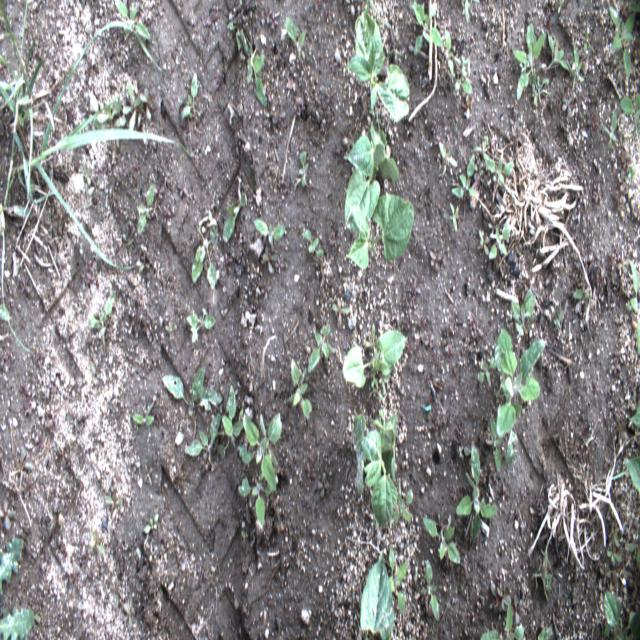crop: (344, 4, 410, 124), (344, 116, 401, 234), (344, 191, 414, 273), (352, 408, 399, 529), (357, 546, 409, 639), (342, 328, 408, 388)
weed: (0, 0, 175, 280), (492, 327, 551, 442), (235, 401, 282, 532), (453, 434, 503, 552), (184, 376, 250, 454), (228, 23, 272, 120), (162, 363, 223, 420), (510, 19, 548, 107), (97, 78, 161, 126), (190, 213, 223, 293), (605, 3, 637, 82), (489, 412, 529, 472), (480, 592, 528, 638), (422, 517, 462, 568), (251, 212, 285, 270), (448, 152, 485, 204), (287, 353, 313, 423), (483, 152, 521, 198), (218, 189, 248, 247), (603, 588, 638, 635), (0, 536, 27, 594), (477, 218, 512, 262), (85, 294, 116, 342), (187, 304, 220, 349), (412, 6, 439, 60), (136, 181, 160, 237), (510, 290, 539, 336), (0, 603, 39, 637), (115, 582, 142, 630), (178, 70, 201, 126), (596, 532, 622, 580), (424, 556, 442, 622), (488, 572, 519, 610), (284, 14, 308, 62), (310, 326, 335, 372), (616, 255, 635, 315), (126, 397, 157, 432), (452, 57, 474, 106), (616, 95, 636, 148), (600, 109, 623, 155), (537, 599, 563, 637), (298, 147, 318, 195), (300, 224, 328, 258), (437, 132, 459, 174), (546, 39, 572, 74), (330, 296, 352, 336), (537, 550, 554, 601), (470, 356, 494, 392), (572, 38, 590, 84), (441, 199, 460, 240), (1, 494, 22, 531), (622, 453, 638, 500), (431, 27, 452, 62), (109, 2, 152, 19), (362, 321, 380, 361), (393, 490, 414, 522), (80, 164, 100, 196), (571, 281, 589, 315), (86, 529, 107, 558), (101, 479, 121, 509), (141, 511, 160, 539), (369, 372, 388, 400), (20, 270, 33, 310), (557, 93, 576, 120), (14, 446, 35, 470), (552, 303, 565, 337), (0, 297, 13, 328), (142, 462, 156, 490), (462, 3, 474, 28), (628, 407, 638, 437), (166, 195, 173, 229)
